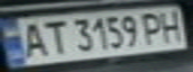1: (90, 15, 109, 51)
3: (69, 16, 93, 52)
5: (106, 12, 127, 50)
9: (121, 12, 142, 48)
A: (15, 20, 51, 60)
H: (157, 8, 187, 43)
P: (139, 10, 169, 46)
T: (36, 18, 69, 56)
